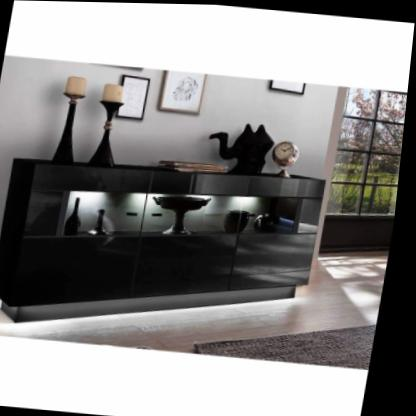Cupboard: (0, 159, 331, 324)
